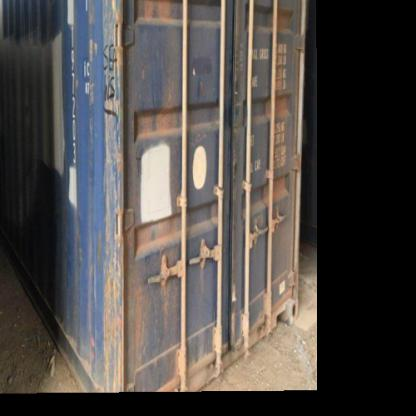Damage: (97, 36, 121, 395), (126, 266, 158, 368), (125, 215, 192, 249), (130, 106, 184, 137), (254, 92, 298, 119), (256, 167, 288, 197)
